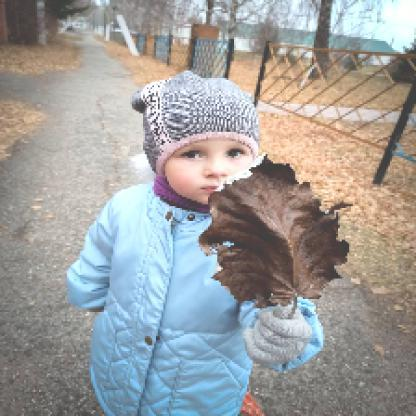child: (66, 70, 328, 416)
